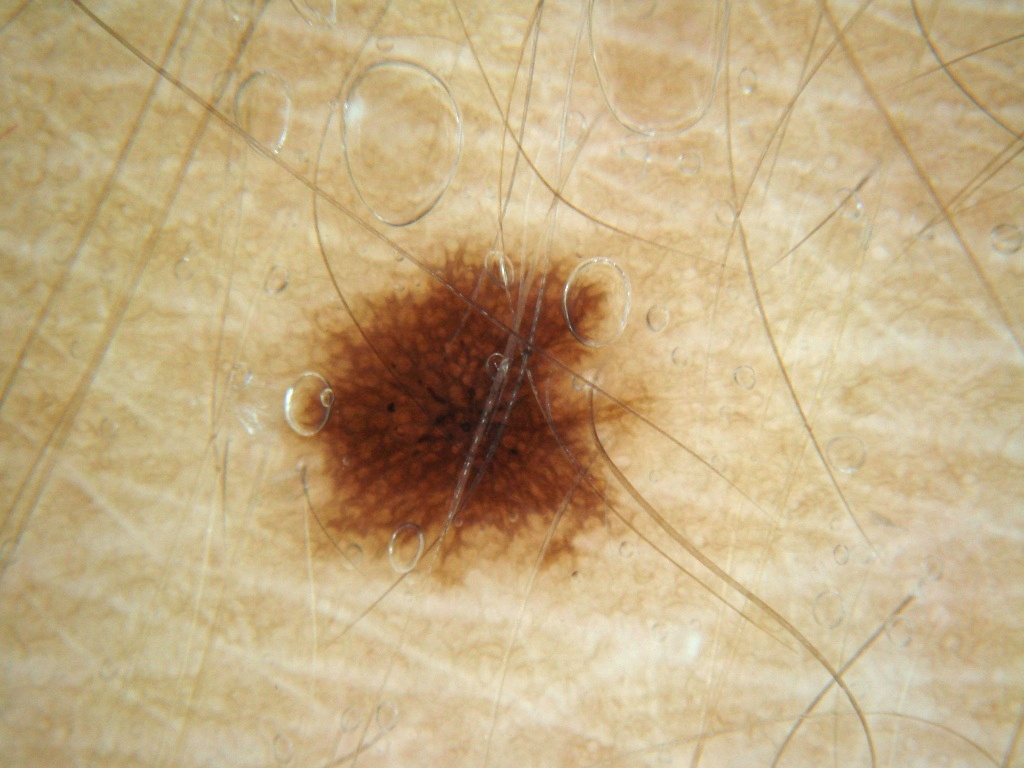Detected Lesion: (284, 236, 643, 579)
